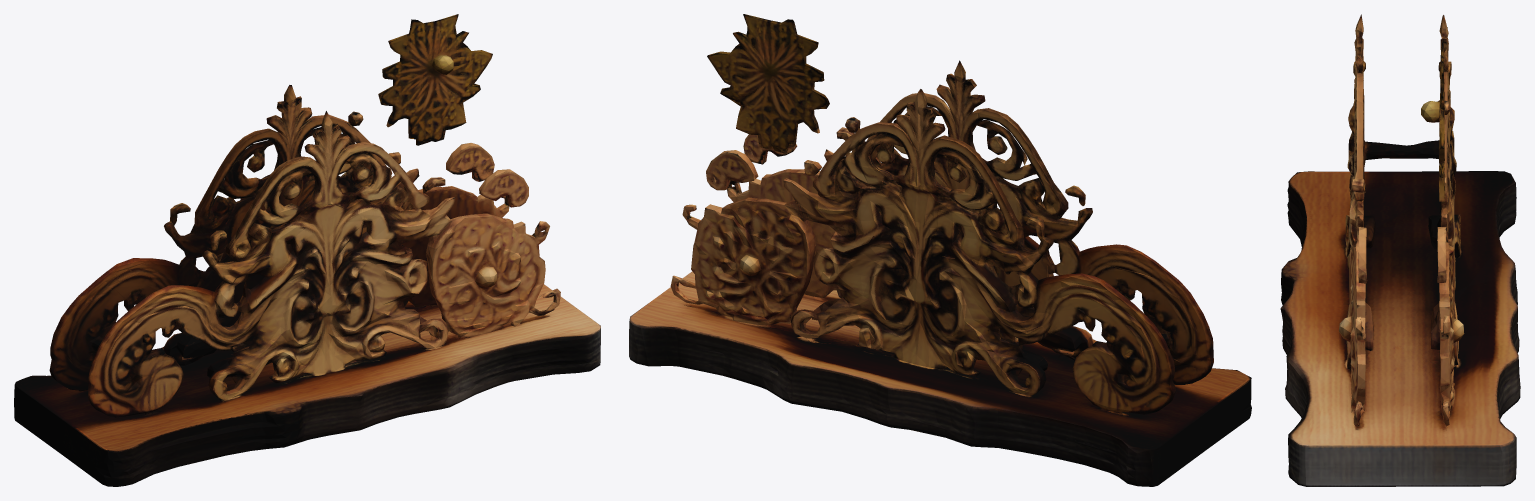
File: wooden-engraving-kit-3d.jpeg.glb
3 views of the same model, side by side, from view 1: azimuth 30°, elevation 25°; view 2: azimuth 150°, elevation 25°; view 3: azimuth 270°, elevation 25° (orthographic). The views are drawn at different scales.
Visible parts, largest first — view 1: world; view 2: world; view 3: world.
Boxes of the visible parts, x1,y1,x2,y2 form: world: [14, 14, 600, 486]; world: [629, 14, 1251, 486]; world: [1280, 14, 1520, 486].
Size of the model in its own units: 0.9974 by 0.6304 by 0.3654.
1 material, 1 textured.
